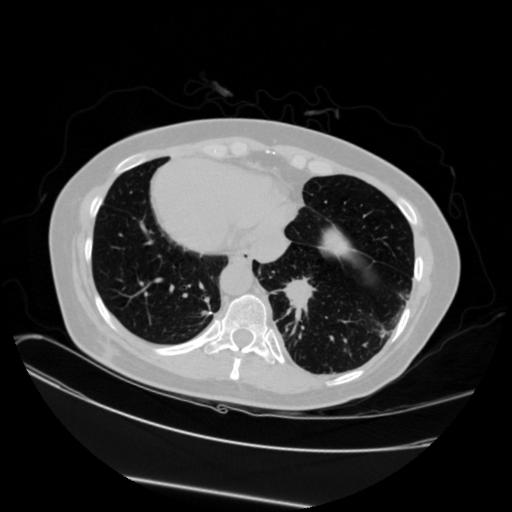nodule: (282, 273, 320, 311)
